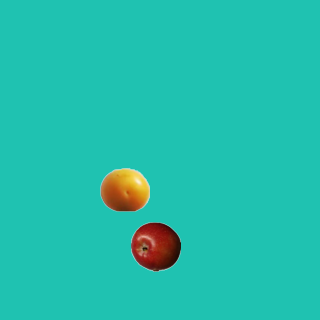Apple Braeburn: (130, 221, 180, 271)
Cherry Wax Yellow: (99, 164, 149, 214)
